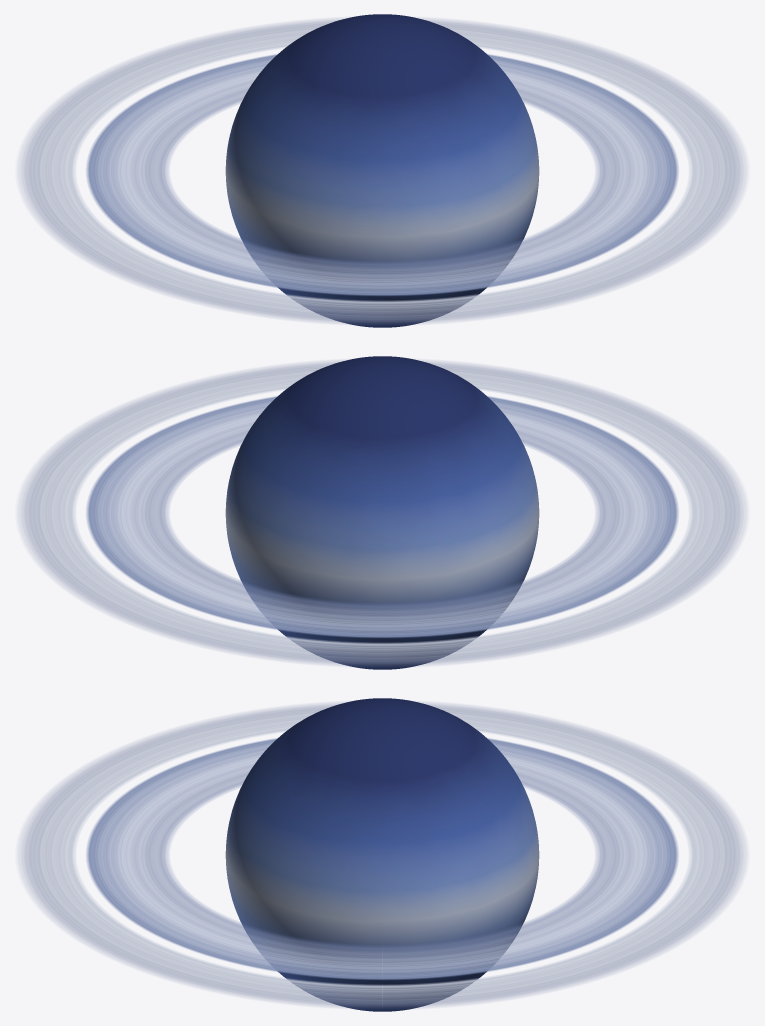
Rendered from shani.glb.
3 renders of one model, top to bottom at view 1: azimuth 30°, elevation 25°; view 2: azimuth 150°, elevation 25°; view 3: azimuth 270°, elevation 25°, orthographic.
Visible parts, largest first — view 1: shani_ring, shani; view 2: shani_ring, shani; view 3: shani_ring, shani.
Part boxes in pixels (box(x1,y1,x2,y2)): shani_ring: box(18, 18, 746, 324); shani: box(225, 14, 539, 327); shani_ring: box(18, 360, 746, 666); shani: box(225, 356, 539, 669); shani_ring: box(18, 702, 746, 1008); shani: box(225, 698, 539, 1011).
Bounding box in the file's own units: 4.7 × 2 × 4.7.
Materials: 2 (2 with a texture image).
